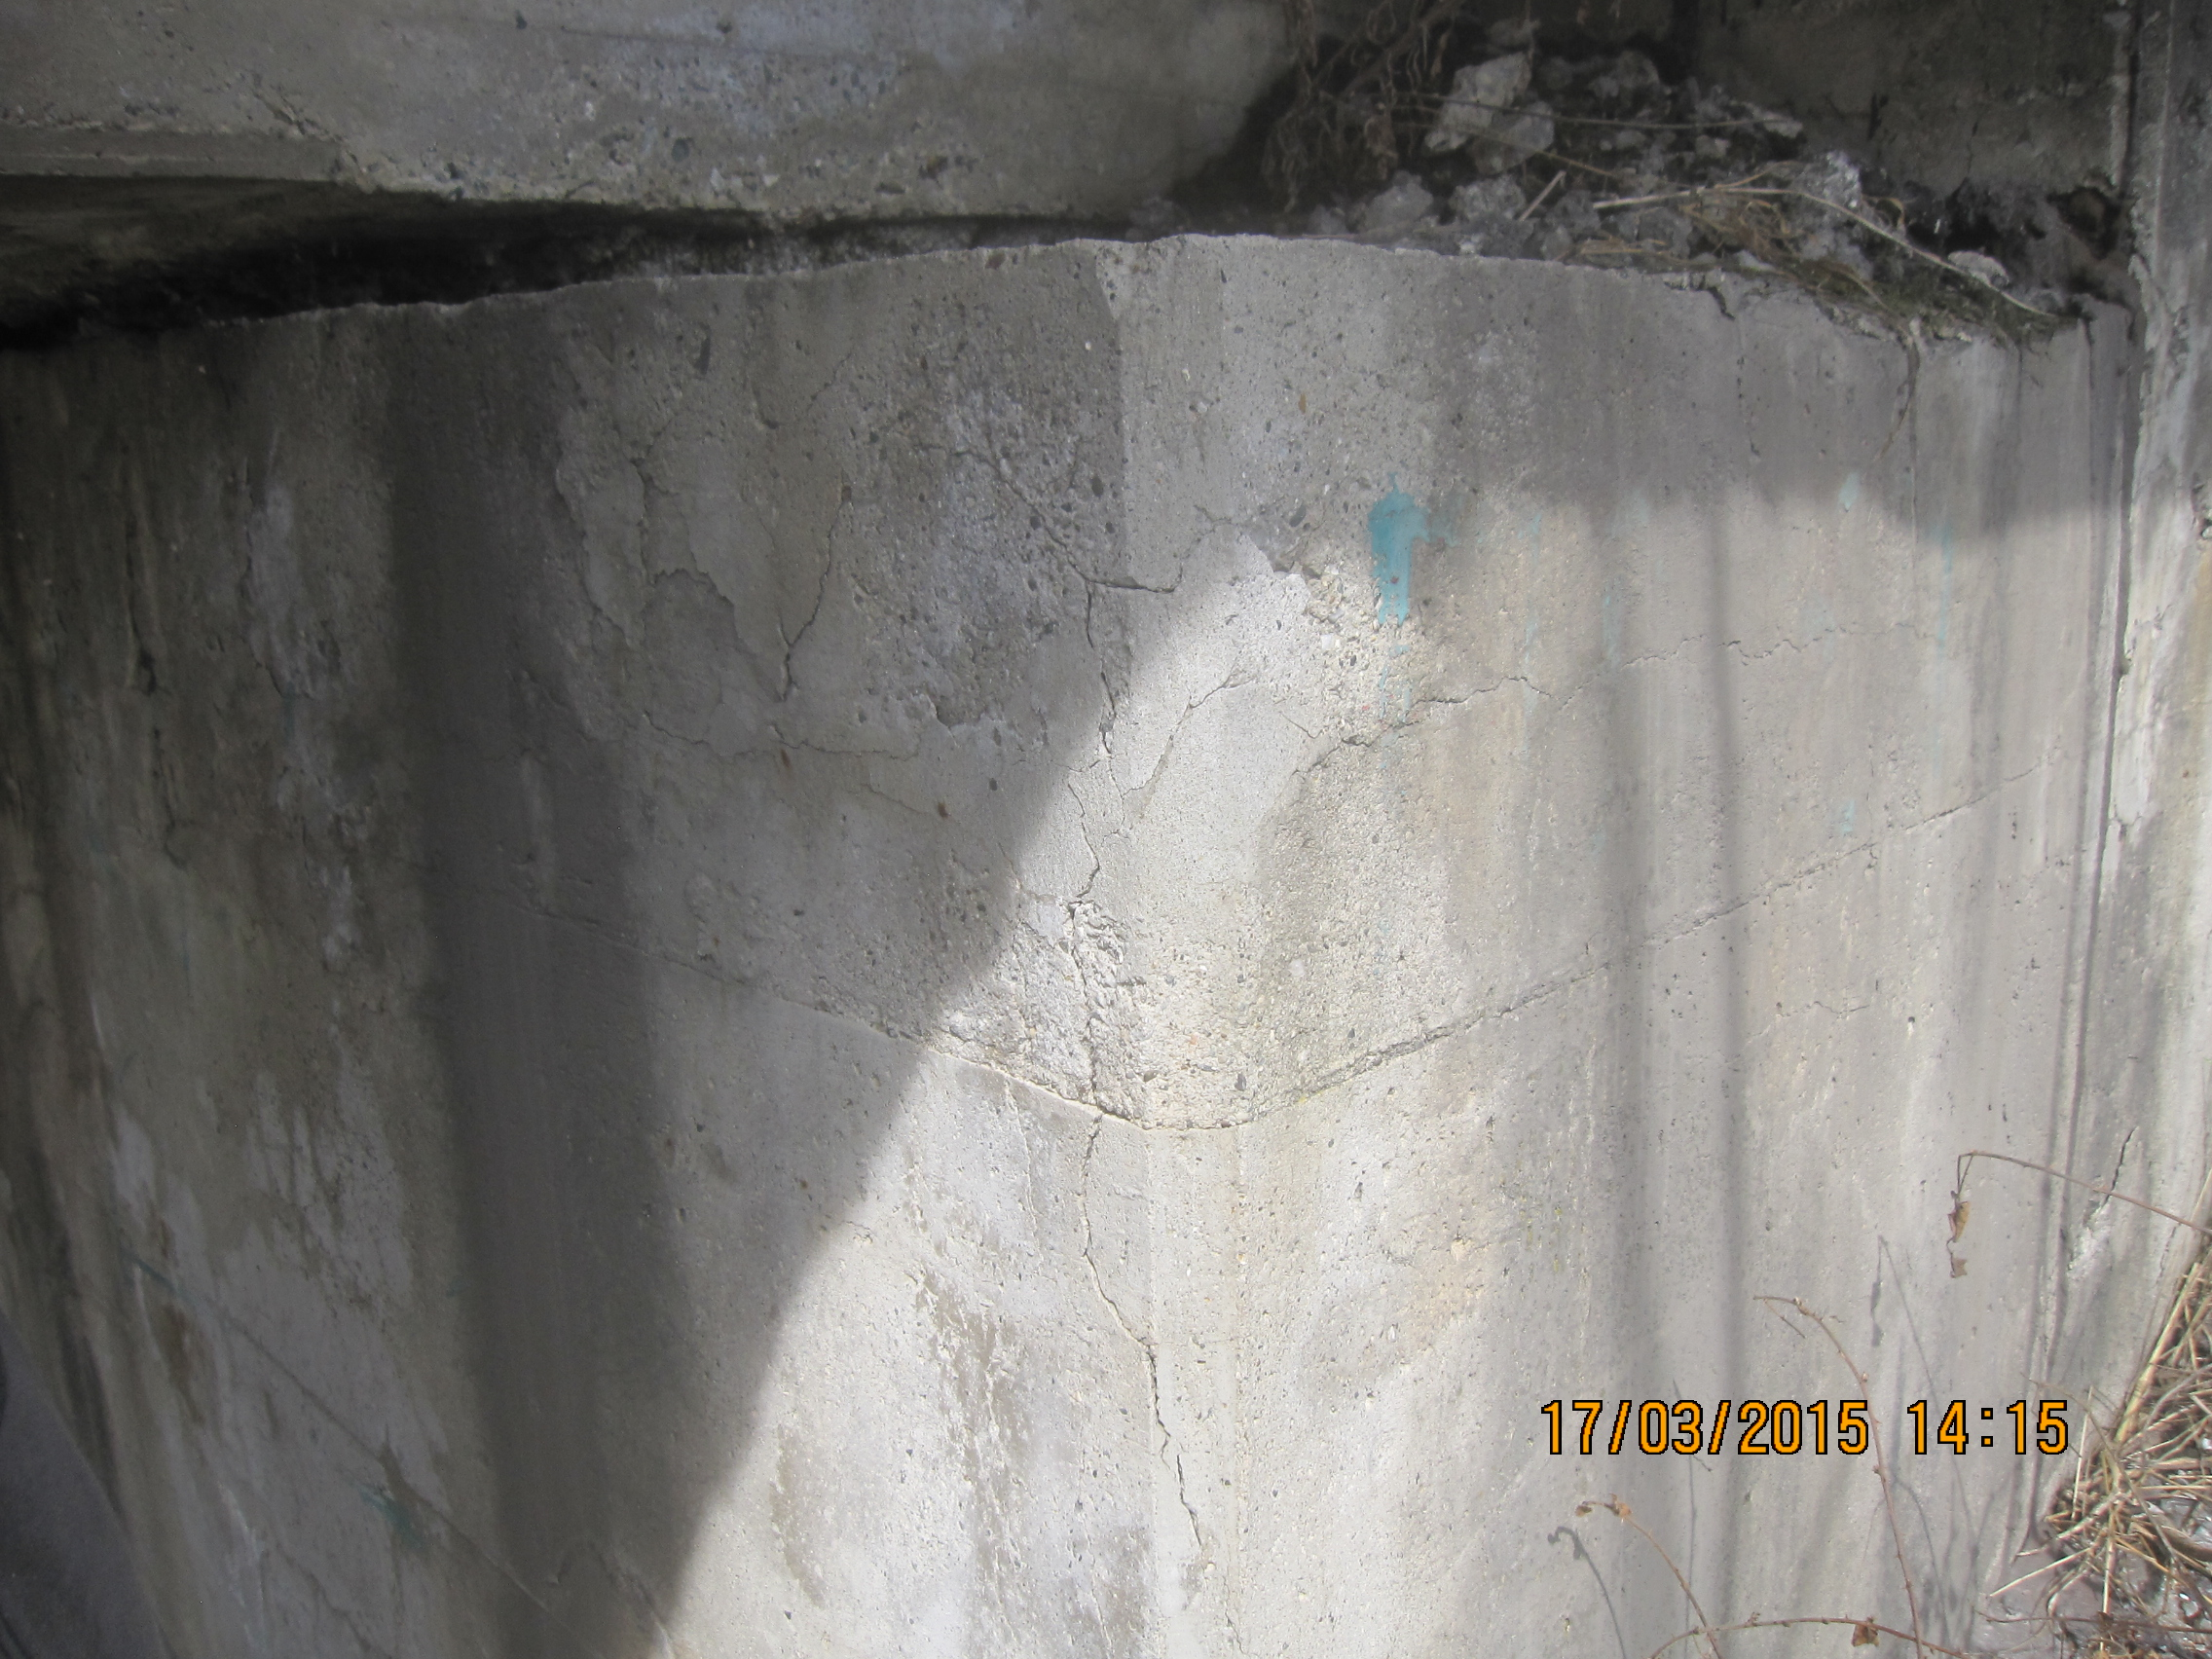defect: (1059, 781, 1258, 1654), (613, 342, 939, 816), (1282, 617, 1965, 802), (975, 383, 1273, 805), (2078, 1124, 2153, 1263)
